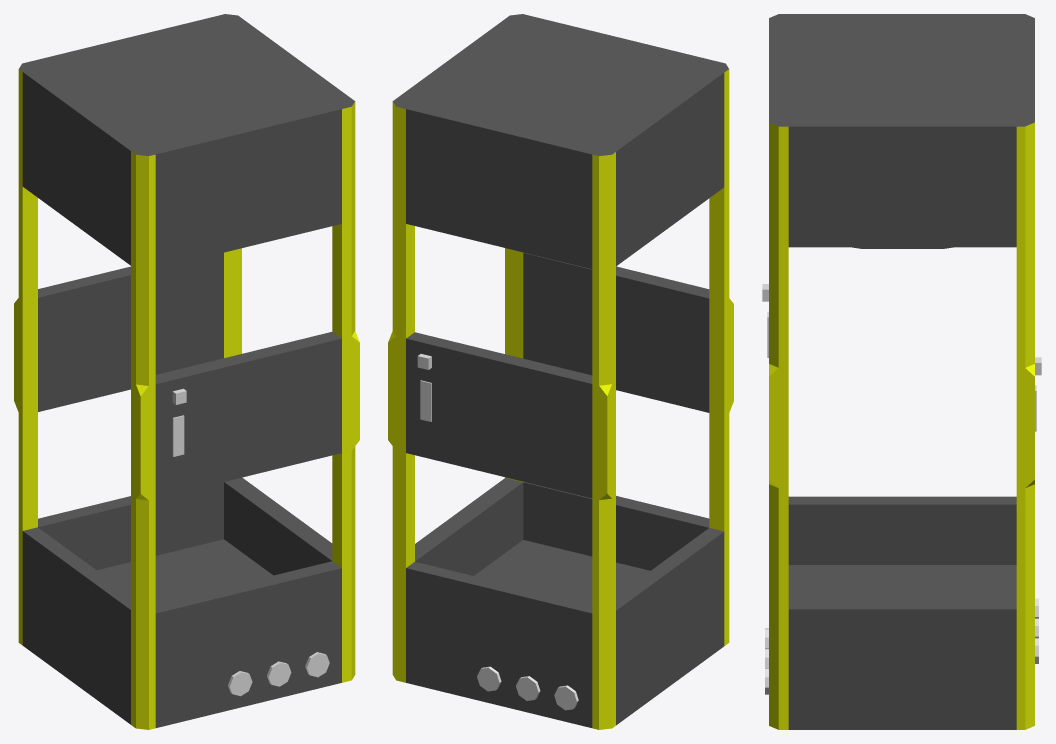
File: mashine.fbx
3 views of the same model, side by side, from view 1: azimuth 30°, elevation 25°; view 2: azimuth 150°, elevation 25°; view 3: azimuth 270°, elevation 25° (orthographic). The views are drawn at different scales.
Visible parts, largest first — view 1: Element 1; view 2: Element 1; view 3: Element 1.
Boxes of the visible parts, left/top/right/bottom form: Element 1: left=14, top=14, right=359, bottom=729; Element 1: left=388, top=14, right=733, bottom=729; Element 1: left=769, top=14, right=1034, bottom=729.
Size of the model in its own units: 200 by 500 by 210.
